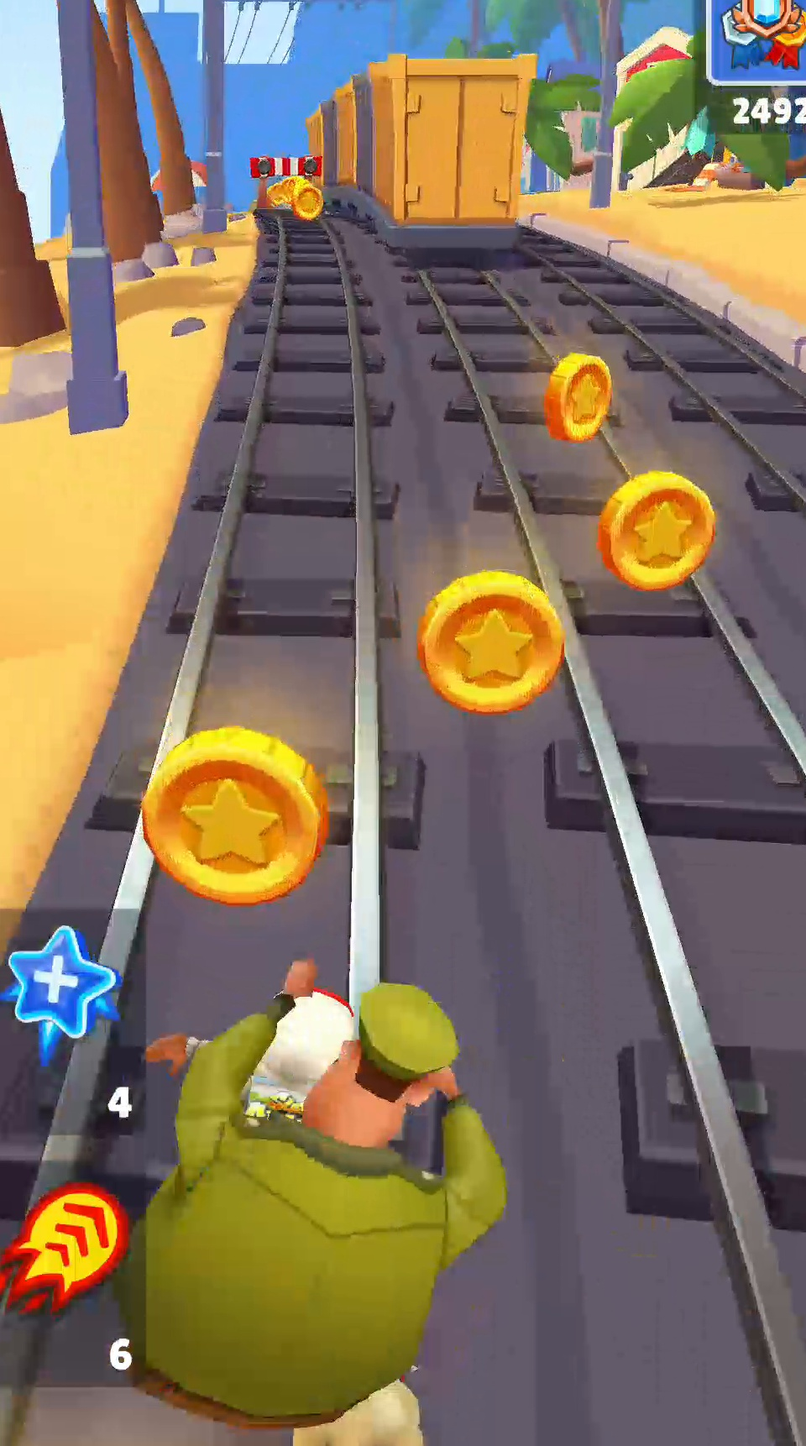police: (113, 965, 505, 1445)
roll blocker: (250, 155, 322, 207)
train: (307, 55, 536, 246)
